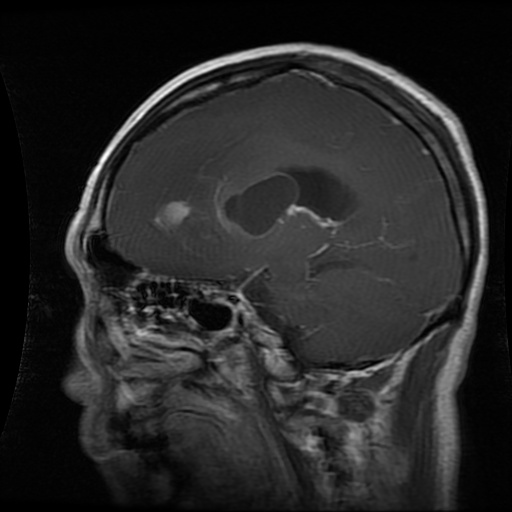glioma: (221, 169, 302, 235)
